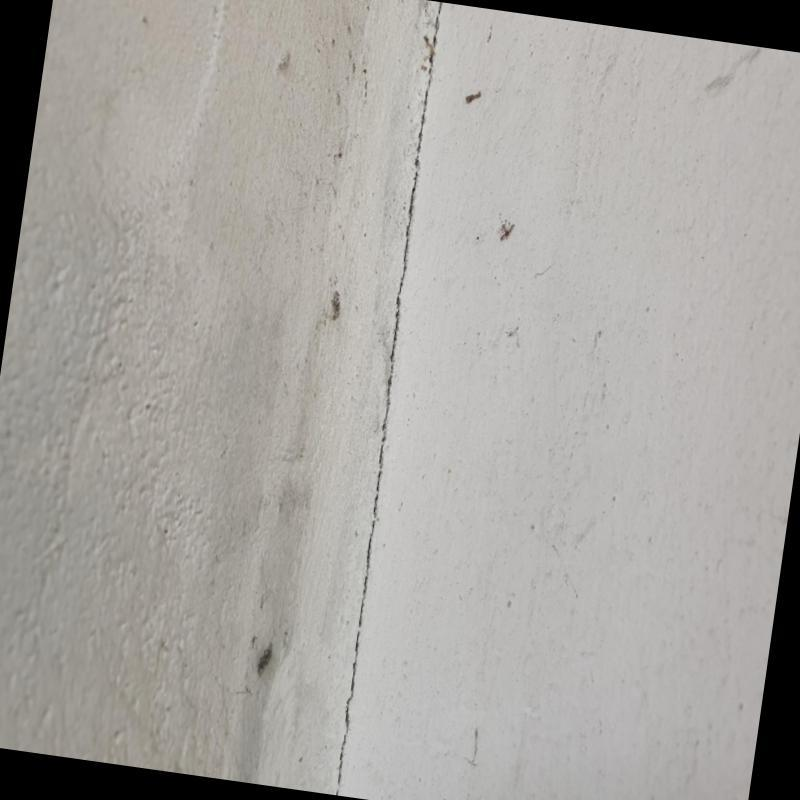pothole: (336, 2, 441, 794)
